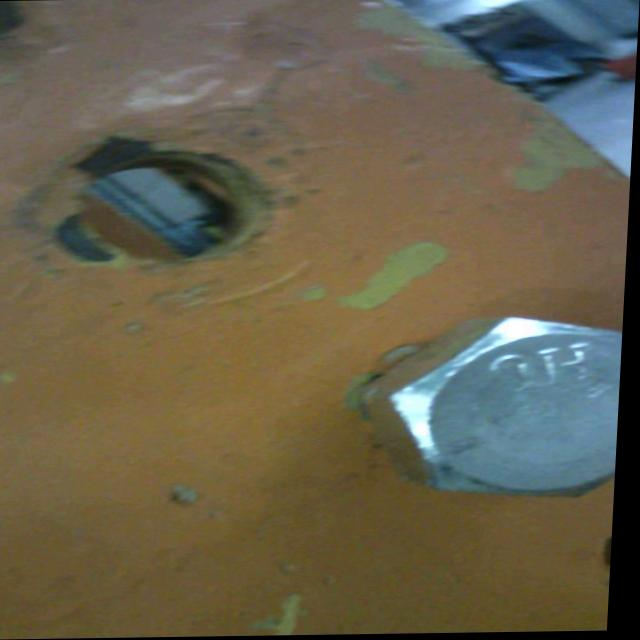Missing bolt: (65, 152, 258, 266)
Regular bolt: (363, 315, 628, 504)
